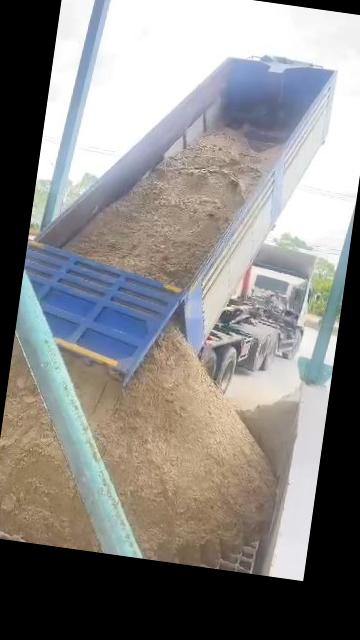sand: (69, 330, 275, 565), (66, 129, 279, 286), (0, 351, 97, 550), (239, 389, 298, 478)
